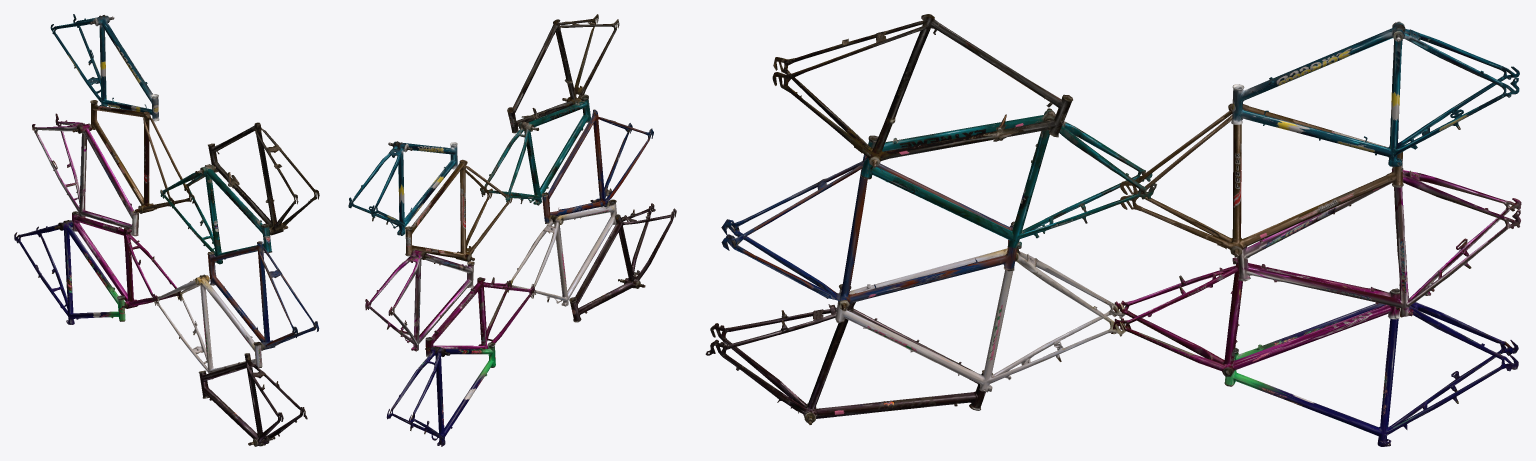
File: FrameStructure_test_v2_vertical_10_error_1.glb
The picture shows the model from 3 angles, left to right: view 1: azimuth 30°, elevation 25°; view 2: azimuth 150°, elevation 25°; view 3: azimuth 270°, elevation 25°; orthographic projection. The views are drawn at different scales.
Size of the model in its own units: 0.3776 by 1.75 by 2.84.
Materials: 10 (10 with a texture image).
